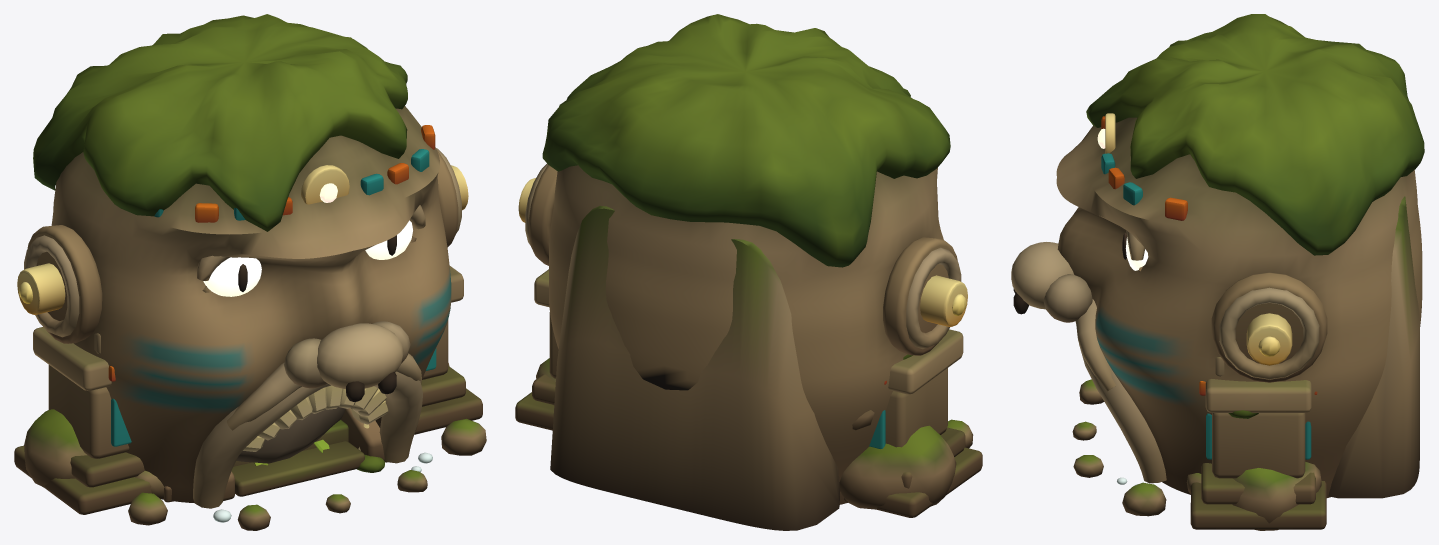
The model's file is props-temple.glb.
3 views of the same model, side by side, from view 1: azimuth 30°, elevation 25°; view 2: azimuth 150°, elevation 25°; view 3: azimuth 270°, elevation 25° (orthographic). The views are drawn at different scales.
Parts seen in each view (by area): view 1: prop-temple-head, prop-temple-gate, prop-temple-waterfall, prop-temple-stairs, prop-temple-islet; view 2: prop-temple-head, prop-temple-waterfall, prop-temple-gate; view 3: prop-temple-head, prop-temple-waterfall, prop-temple-gate.
Boxes of the visible parts, bbox=[...] form: prop-temple-head: bbox=[17, 14, 468, 508]; prop-temple-gate: bbox=[14, 266, 482, 514]; prop-temple-waterfall: bbox=[24, 363, 486, 530]; prop-temple-stairs: bbox=[163, 408, 385, 502]; prop-temple-islet: bbox=[236, 407, 345, 463]; prop-temple-head: bbox=[518, 14, 967, 504]; prop-temple-waterfall: bbox=[536, 205, 973, 530]; prop-temple-gate: bbox=[515, 269, 982, 517]; prop-temple-head: bbox=[1011, 14, 1424, 497]; prop-temple-waterfall: bbox=[1072, 196, 1419, 530]; prop-temple-gate: bbox=[1190, 357, 1326, 529].
Bounding box in the file's own units: 5.83 × 5.26 × 4.87.
